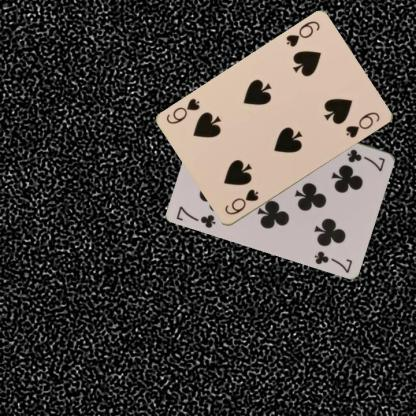6s: (222, 186, 260, 216), (283, 19, 321, 49)
7c: (344, 146, 387, 173), (174, 203, 217, 229)
